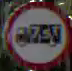Heavy Vehicles: (3, 0, 70, 70)
